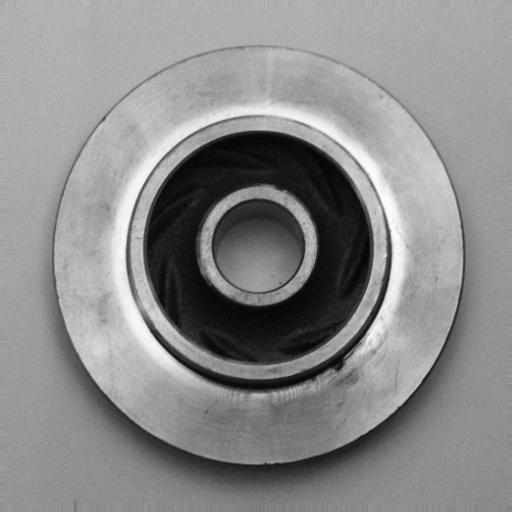crack: (325, 344, 366, 382)
unpolished_casting: (49, 45, 469, 473)
